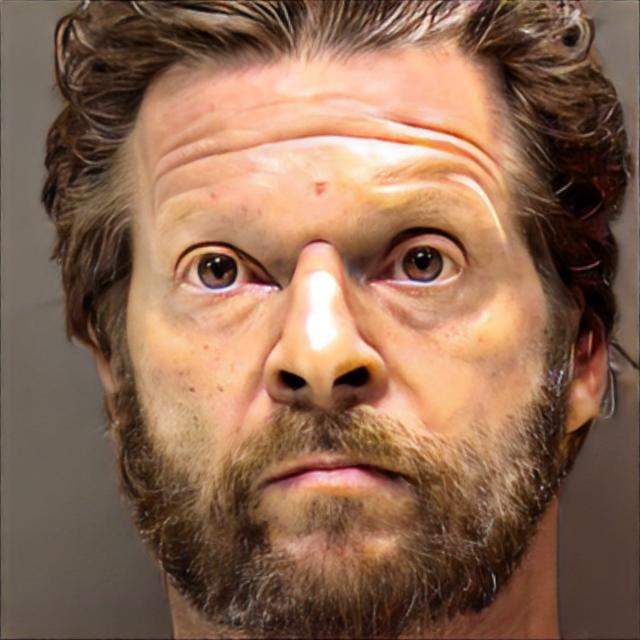surprise: (120, 36, 538, 607)
